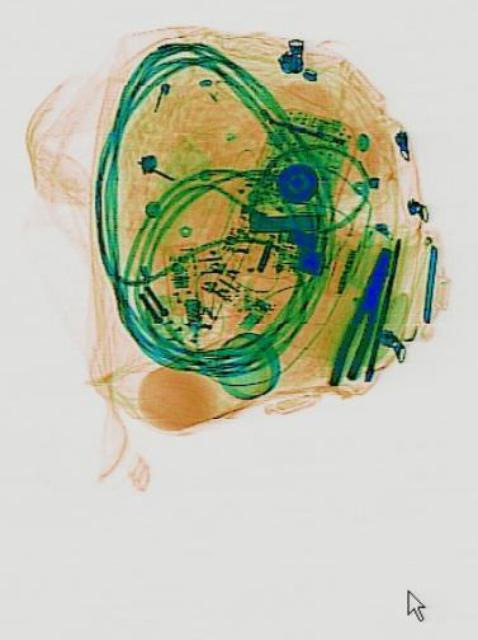Pliers: (322, 241, 395, 395)
